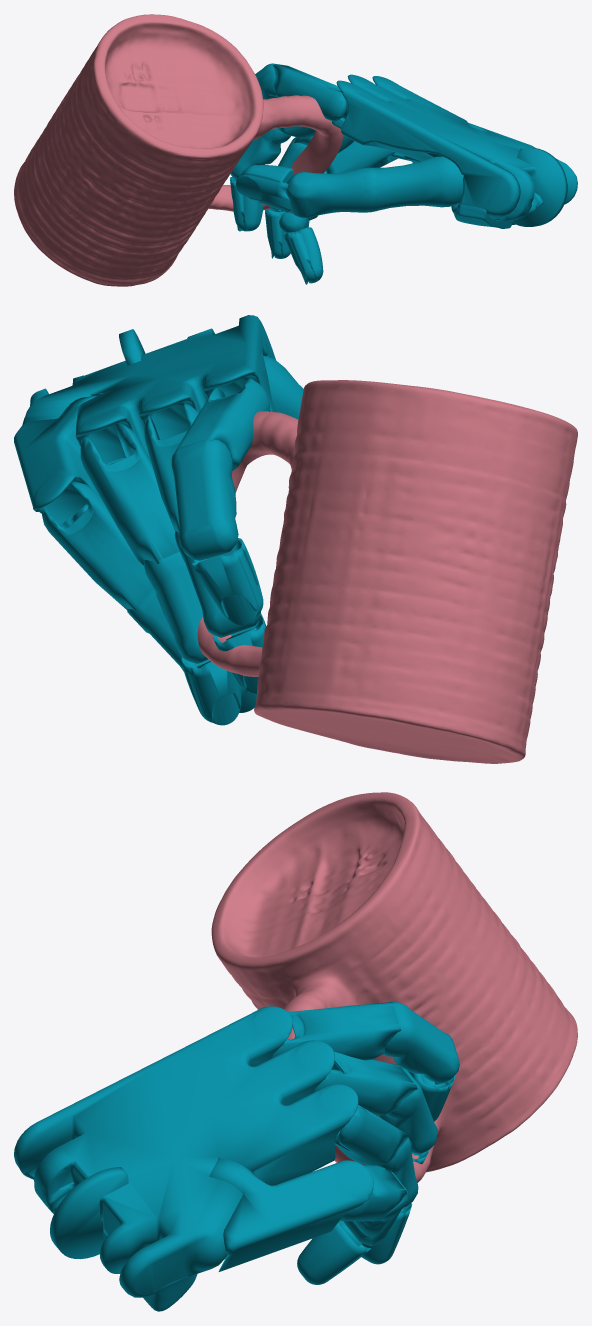
The picture shows the model from 3 angles, top to bottom: view 1: azimuth 30°, elevation 25°; view 2: azimuth 150°, elevation 25°; view 3: azimuth 270°, elevation 25°; orthographic projection. The views are drawn at different scales.
Visible parts, largest first — view 1: world; view 2: world; view 3: world.
Boxes of the visible parts, bbox=[...] form: world: bbox=[14, 14, 577, 286]; world: bbox=[14, 315, 577, 763]; world: bbox=[14, 792, 577, 1311].
Bounding box in the file's own units: 0.2465 × 0.1492 × 0.2024.
